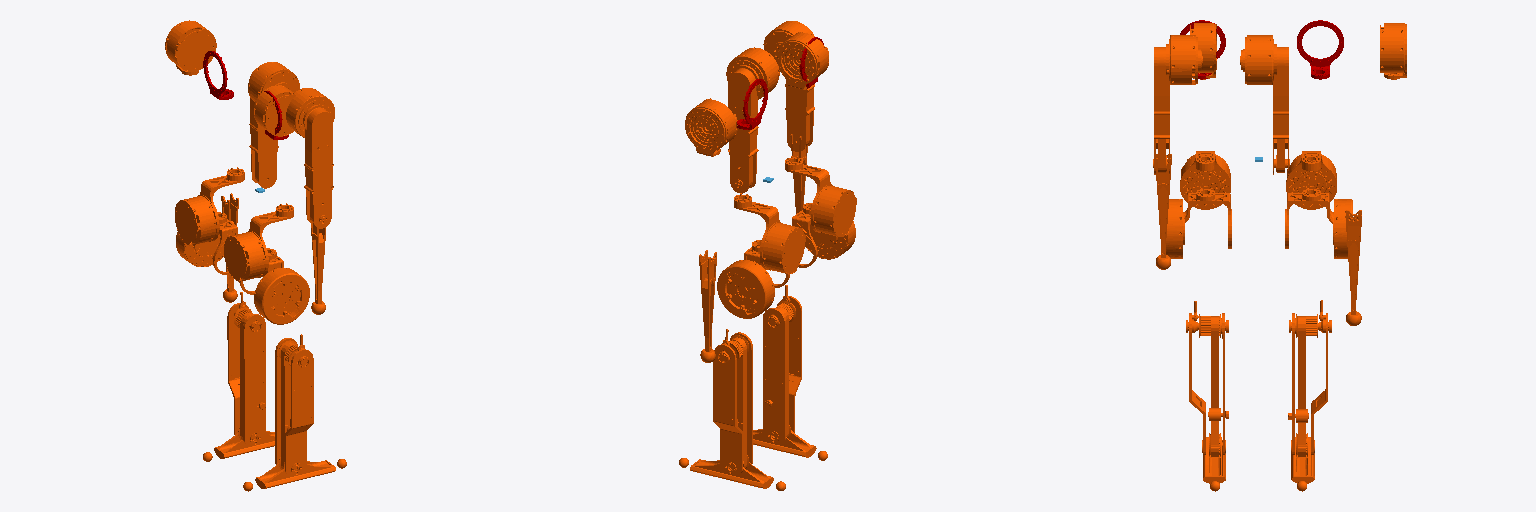
--- What the picture shows (computed from the rendered views, not written in the file) ---
The picture shows the robot from 3 angles, left to right: view 1: azimuth 30°, elevation 25°; view 2: azimuth 150°, elevation 25°; view 3: azimuth 270°, elevation 25°; orthographic projection.
Robot: robot — 22 links, 21 joints (16 revolute, 5 fixed); root link base; default pose: all joints at 0.
Links seen in each view (by area): view 1: L_LShank, R_LShank, R_LUpperArm, R_LHipRx, L_LUpperArm, L_LForeArm, R_LHipRz, L_LHipRz, R_LForeArm, L_LHipRx, R_Foot, L_Foot (+1 smaller); view 2: R_LShank, L_LShank, L_LUpperArm, L_LForeArm, L_LHipRx, L_LHipRz, R_LHipRz, R_LForeArm, R_LUpperArm, R_LHipRx, L_Foot, R_Foot (+1 smaller); view 3: L_LUpperArm, R_LUpperArm, L_LShank, L_LForeArm, R_LShank, R_LForeArm, R_LHipRz, L_LHipRz, R_LHipRx, L_LHipRx, L_LShoulderRx, L_Foot (+1 smaller).
Link boxes in pixels (x1,y1,x2,y2): L_LShank: [227, 292, 265, 444]; R_LShank: [275, 334, 313, 474]; R_LUpperArm: [286, 88, 334, 228]; R_LHipRx: [239, 248, 309, 324]; L_LUpperArm: [248, 62, 299, 188]; L_LForeArm: [165, 20, 238, 302]; R_LHipRz: [224, 203, 293, 281]; L_LHipRz: [175, 167, 244, 245]; R_LForeArm: [254, 85, 325, 314]; L_LHipRx: [176, 212, 237, 274]; R_Foot: [255, 457, 335, 488]; L_Foot: [214, 428, 274, 458]; R_LShank: [763, 285, 801, 442]; L_LShank: [713, 329, 752, 473]; L_LUpperArm: [726, 47, 779, 193]; L_LForeArm: [685, 98, 737, 362]; L_LHipRx: [717, 240, 789, 318]; L_LHipRz: [734, 193, 805, 273]; R_LHipRz: [785, 156, 856, 236]; R_LForeArm: [776, 32, 828, 213]; R_LUpperArm: [763, 21, 814, 151]; R_LHipRx: [792, 203, 855, 267]; L_Foot: [690, 455, 773, 488]; R_Foot: [753, 425, 816, 457]; L_LUpperArm: [1240, 35, 1289, 174]; R_LUpperArm: [1153, 35, 1202, 174]; L_LShank: [1288, 300, 1331, 456]; L_LForeArm: [1345, 23, 1406, 325]; R_LShank: [1186, 301, 1228, 456]; R_LForeArm: [1156, 23, 1216, 269]; R_LHipRz: [1180, 151, 1230, 209]; L_LHipRz: [1286, 151, 1336, 209]; R_LHipRx: [1166, 189, 1231, 258]; L_LHipRx: [1285, 189, 1352, 258]; L_LShoulderRx: [1297, 20, 1343, 79]; L_Foot: [1291, 433, 1314, 483].
Size in the robot's own frame: 0.27 by 0.4786 by 0.8947 metres.
Meshes: 17 distinct files referenced, 16 mesh visuals loaded (14 OBJ); not drawn: 3 (reference not matched to a file when rendering).

URDF robot description (robot):
<?xml version="1.0" ?>
<!-- =================================================================================== -->
<!-- |    This document was autogenerated by xacro from robot.xacro                    | -->
<!-- |    EDITING THIS FILE BY HAND IS NOT RECOMMENDED                                 | -->
<!-- =================================================================================== -->
<robot name="robot">
  <material name="black">
    <color rgba="0.0 0.0 0.0 1.0"/>
  </material>
  <material name="blue">
    <color rgba="0.0 0.0 0.8 1.0"/>
  </material>
  <material name="green">
    <color rgba="0.0 0.8 0.0 1.0"/>
  </material>
  <material name="grey">
    <color rgba="0.2 0.2 0.2 1.0"/>
  </material>
  <material name="silver">
    <color rgba="0.9137254901960784 0.9137254901960784 0.8470588235294118 1.0"/>
  </material>
  <material name="orange">
    <color rgba="1.0 0.4235294117647059 0.0392156862745098 1.0"/>
  </material>
  <material name="brown">
    <color rgba="0.8705882352941177 0.8117647058823529 0.7647058823529411 1.0"/>
  </material>
  <material name="red">
    <color rgba="0.8 0.0 0.0 1.0"/>
  </material>
  <material name="white">
    <color rgba="1.0 1.0 1.0 1.0"/>
  </material>
  <!-- ros_control plugin -->
  <gazebo>
    <plugin filename="liblegged_hw_sim.so" name="gazebo_ros_control">
      <robotNamespace>/</robotNamespace>
      <robotParam>legged_robot_description</robotParam>
      <robotSimType>legged_gazebo/LeggedHWSim</robotSimType>
    </plugin>
  </gazebo>
  <gazebo>
    <plugin filename="libgazebo_ros_p3d.so" name="p3d_base_controller">
      <alwaysOn>true</alwaysOn>
      <updateRate>1000.0</updateRate>
      <bodyName>base</bodyName>
      <topicName>ground_truth/state</topicName>
      <gaussianNoise>0</gaussianNoise>
      <frameName>world</frameName>
      <xyzOffsets>0 0 0</xyzOffsets>
      <rpyOffsets>0 0 0</rpyOffsets>
    </plugin>
  </gazebo>
  <link name="base">
    <visual>
      <origin rpy="0 0 0" xyz="0 0 0"/>
      <geometry>
        <mesh filename="package://legged_unitree_description/meshes/a1/Body.obj" scale="1 1 1"/>
      </geometry>
    </visual>
    <collision>
      <origin rpy="0 0 0" xyz="0 0 0.04"/>
      <geometry>
        <box size="0.194 0.267 0.178"/>
      </geometry>
    </collision>
    <inertial>
      <origin rpy="0 0 0" xyz="0.0 0.0 0.15"/>
      <mass value="6.5"/>
      <inertia ixx="0.3006167" ixy="-0.0" ixz="-0.0" iyy="0.23837" iyz="-0.0" izz="0.09690467"/>
    </inertial>
  </link>
  <!-- Imu is fixed to the base link -->
  <joint name="unitree_imu_joint" type="fixed">
    <origin rpy="0. 0. 0." xyz="0. 0. 0."/>
    <parent link="base"/>
    <child link="unitree_imu"/>
  </joint>
  <!-- Imu link -->
  <link name="unitree_imu">
    <inertial>
      <mass value="0.01"/>
      <origin rpy="0 0 0" xyz="0 0 0"/>
      <inertia ixx="0.000001" ixy="0" ixz="0" iyy="0.000001" iyz="0" izz="0.000001"/>
    </inertial>
    <visual>
      <origin rpy="0 0 0" xyz="0 0 0"/>
      <geometry>
        <box size="0.015 0.015 0.004"/>
      </geometry>
    </visual>
    <material name="orange">
      <color rgba="255 108 10 255"/>
    </material>
  </link>
  <gazebo reference="unitree_imu">
    <material>Gazebo/Orange</material>
  </gazebo>
  <gazebo reference="unitree_imu_joint">
    <disableFixedJointLumping>true</disableFixedJointLumping>
  </gazebo>
  <joint name="L_JHipRz" type="revolute">
    <origin rpy="0 0 0" xyz="0 0.1 0"/>
    <parent link="base"/>
    <child link="L_LHipRz"/>
    <axis xyz="0 0 1"/>
    <dynamics damping="100" friction="100"/>
    <limit effort="33.5" lower="-3" upper="3" velocity="21"/>
  </joint>
  <link name="L_LHipRz">
    <visual>
      <origin rpy="0 0 0.0" xyz="0 0 0"/>
      <geometry>
        <mesh filename="package://legged_unitree_description/meshes/a1/L_HipRz.obj" scale="1 1 1"/>
      </geometry>
      <material name="orange"/>
    </visual>
    <inertial>
      <origin rpy="0 0 0" xyz="0.0 0.0 -0.01"/>
      <mass value="0.30"/>
      <inertia ixx="0.003735" ixy="0.0" ixz="0.0" iyy="0.01391" iyz="0.0" izz="0.01355"/>
    </inertial>
    <collision>
      <origin rpy="0 1.57 0" xyz="0 0 -0.1"/>
      <origin rpy="0 1.57 0" xyz="0 0 -0.1"/>
      <geometry>
        <cylinder length="0.05" radius="0.02"/>
      </geometry>
    </collision>
  </link>
  <joint name="L_JHipRx" type="revolute">
    <origin rpy="0 0 0" xyz="-0.041 0.0 -0.0885"/>
    <parent link="L_LHipRz"/>
    <child link="L_LHipRx"/>
    <axis xyz="1 0 0"/>
    <dynamics damping="100" friction="100"/>
    <limit effort="33.5" lower="-3" upper="3" velocity="21"/>
  </joint>
  <link name="L_LHipRx">
    <collision>
      <origin rpy="0 1.57 0" xyz="-0.07 -0.0 -0.0"/>
      <origin rpy="0 1.57 0" xyz="-0.07 0.0 -0.0"/>
      <geometry>
        <cylinder length="0.05" radius="0.04"/>
      </geometry>
    </collision>
    <visual>
      <origin rpy="0 0 0" xyz="0. 0.00 0.0"/>
      <origin rpy="0 0 0.0" xyz="0 0 0.0"/>
      <geometry>
        <mesh filename="package://legged_unitree_description/meshes/a1/L_HipRx.obj" scale="1 1 1"/>
      </geometry>
      <material name="orange"/>
    </visual>
    <inertial>
      <origin rpy="0 0 0" xyz="0.0 0.0 -0.01"/>
      <mass value="0.30"/>
      <inertia ixx="0.003735" ixy="0.0" ixz="0.0" iyy="0.01391" iyz="0.0" izz="0.01355"/>
    </inertial>
  </link>
  <joint name="L_JThigh" type="revolute">
    <origin rpy="0 0 0" xyz="0.065 0.0 0.0"/>
    <parent link="L_LHipRx"/>
    <child link="L_LThigh"/>
    <axis xyz="0 1 0"/>
    <dynamics damping="100" friction="100"/>
    <limit effort="33.5" lower="-3" upper="3" velocity="21"/>
  </joint>
  <link name="L_LThigh">
    <visual>
      <origin rpy="1.57 1.57 -0" xyz="0. 0.0 0.0"/>
      <origin rpy="1.57 1.57 0.0" xyz="0 0.0 0.0"/>
      <geometry>
        <mesh filename="package://legged_unitree_description/meshes/a1/L_Thigh.obj" scale="1 1 1"/>
      </geometry>
      <material name="orange"/>
    </visual>
    <collision>
      <origin rpy="0 0 0" xyz="-0.0 -0.0 -0.17"/>
      <origin rpy="0 0 0" xyz="-0.0 0.0 -0.17"/>
      <geometry>
        <cylinder length="0.23" radius="0.04"/>
      </geometry>
    </collision>
    <inertial>
      <origin rpy="0 0 0" xyz="0.0 0.0 -0.01"/>
      <mass value="1.0"/>
      <inertia ixx="0.003735" ixy="0.0" ixz="0.0" iyy="0.01391" iyz="0.0" izz="0.01355"/>
    </inertial>
  </link>
  <joint name="L_JKnee" type="revolute">
    <origin rpy="0 0 0" xyz="0.0 -0.017875 -0.247"/>
    <parent link="L_LThigh"/>
    <child link="L_LShank"/>
    <axis xyz="0 1 0"/>
    <dynamics damping="100" friction="100"/>
    <limit effort="33.5" lower="-3" upper="3" velocity="21"/>
  </joint>
  <link name="L_LShank">
    <visual>
      <origin rpy="1.57 1.57 0" xyz="0 -0.0 0"/>
      <geometry>
        <mesh filename="package://legged_unitree_description/meshes/a1/L_LowerLeg3_drawing.obj" scale="1 1 1"/>
      </geometry>
      <material name="orange"/>
    </visual>
    <collision>
      <origin rpy="0 0 0" xyz="-0.0 -0.0 -0.15"/>
      <origin rpy="0 0 0" xyz="-0.0 0.0 -0.15"/>
      <geometry>
        <cylinder length="0.15" radius="0.04"/>
      </geometry>
    </collision>
    <inertial>
      <origin rpy="0 0 0" xyz="-0.03416 -0.00075 -0.01"/>
      <mass value="0.70"/>
      <inertia ixx="0.003735" ixy="0.0" ixz="0.0" iyy="0.01391" iyz="0.0" izz="0.01355"/>
    </inertial>
  </link>
  <joint name="L_JAnkle" type="revolute">
    <origin rpy="0 0 0" xyz="0.0 0.0 -0.247"/>
    <parent link="L_LShank"/>
    <child link="L_Foot"/>
    <axis xyz="0 1 0"/>
    <dynamics damping="100" friction="100"/>
    <limit effort="33.5" lower="-3" upper="3" velocity="3"/>
  </joint>
  <link name="L_Foot">
    <visual>
      <origin rpy="1.57 1.57 0" xyz="0 0 0"/>
      <geometry>
        <mesh filename="package://legged_unitree_description/meshes/a1/L_foot_drawing.obj" scale="1 1 1"/>
      </geometry>
      <material name="orange"/>
    </visual>
    <!--  两个点 -->
    <!---->
    <!--            <collision>-->
    <!--                <geometry>-->
    <!--                    <sphere radius="0.02"/>-->
    <!--                </geometry>-->
    <!--                <origin xyz="-0.1 0.0 -0.03" rpy="0 0 0"/>-->
    <!--            </collision>-->
    <!--            <collision>-->
    <!--                <geometry>-->
    <!--                    <sphere radius="0.02"/>-->
    <!--                </geometry>-->
    <!--                <origin xyz="0.12 0.0 -0.03" rpy="0 0 0"/>-->
    <!--            </collision>-->
    <!--  条形 -->
    <!--            <collision>-->
    <!--                <origin rpy="0 0 0" xyz="0 0 -0.033"/>-->
    <!--                <geometry>-->
    <!--                    <box size="${foot_width} ${foot_length} ${foot_height}"/>-->
    <!--                </geometry>-->
    <!--            </collision>-->
    <!-- <collision>
            <xacro:if value="${(mirror == True)}">
                <origin rpy="0 0 0" xyz="${foot_width} ${Shank_y_offset} ${Shank_z_offset}"/>
            </xacro:if>
            <xacro:unless value="${(mirror == False)}">
                <origin rpy="0 0 0" xyz="${Shank_x_offset} ${-Shank_y_offset} ${Shank_z_offset}"/>
            </xacro:unless>
                <geometry>
                    <cylinder length="${Shank_length}" radius="${Shank_radius}"/>
                </geometry>
            </collision> -->
    <inertial>
      <origin rpy="0 0 0" xyz="0.0 0.0 -0.01"/>
      <mass value="0.30"/>
      <inertia ixx="0.003735" ixy="0.0" ixz="0.0" iyy="0.01391" iyz="0.0" izz="0.01355"/>
    </inertial>
  </link>
  <joint name="LF_Jfoot_fixed" type="fixed">
    <origin rpy="0 0 0" xyz="0.12 0.0 -0.03"/>
    <parent link="L_Foot"/>
    <child link="LF_Lfoot_fixed"/>
  </joint>
  <link name="LF_Lfoot_fixed">
    <visual>
      <origin rpy="0 0 0" xyz="0 0 0"/>
      <geometry>
        <sphere radius="0.01"/>
      </geometry>
      <material name="orange"/>
    </visual>
    <collision>
      <origin rpy="0 0 0" xyz="0 0 0"/>
      <geometry>
        <sphere radius="0.02"/>
      </geometry>
    </collision>
  </link>
  <joint name="LH_Jfoot_fixed" type="fixed">
    <origin rpy="0 0 0" xyz="-0.1 0.0 -0.03"/>
    <parent link="L_Foot"/>
    <child link="LH_Lfoot_fixed"/>
  </joint>
  <link name="LH_Lfoot_fixed">
    <visual>
      <origin rpy="0 0 0" xyz="0 0 0"/>
      <geometry>
        <sphere radius="0.01"/>
      </geometry>
      <material name="orange"/>
    </visual>
    <collision>
      <origin rpy="0 0 0" xyz="0 0 0"/>
      <geometry>
        <sphere radius="0.02"/>
      </geometry>
    </collision>
  </link>
  <gazebo reference="LF_Lfoot_fixed">
    <disableFixedJointLumping>true</disableFixedJointLumping>
  </gazebo>
  <gazebo reference="LH_Lfoot_fixed">
    <disableFixedJointLumping>true</disableFixedJointLumping>
  </gazebo>
  <gazebo reference="L_LHipRz">
    <mu1>0.2</mu1>
    <mu2>0.2</mu2>
    <material>Gazebo/DarkGrey</material>
    <kp value="1000000.0"/>
    <kd value="100.0"/>
  </gazebo>
  <gazebo reference="L_LHipRx">
    <mu1>0.2</mu1>
    <mu2>0.2</mu2>
    <material>Gazebo/DarkGrey</material>
    <kp value="1000000.0"/>
    <kd value="100.0"/>
  </gazebo>
  <gazebo reference="L_LThigh">
    <mu1>0.2</mu1>
    <mu2>0.2</mu2>
    <material>Gazebo/DarkGrey</material>
    <kp value="1000000.0"/>
    <kd value="100.0"/>
  </gazebo>
  <gazebo reference="L_LShank">
    <mu1>0.2</mu1>
    <mu2>0.2</mu2>
    <material>Gazebo/DarkGrey</material>
    <kp value="1000000.0"/>
    <kd value="100.0"/>
  </gazebo>
  <gazebo reference="L_Foot">
    <mu1>0.6</mu1>
    <mu2>0.6</mu2>
    <self_collide>1</self_collide>
    <material>Gazebo/DarkGrey</material>
    <kp value="1000000.0"/>
    <kd value="100.0"/>
  </gazebo>
  <transmission name="L_JHipRz_tran">
    <type>transmission_interface/SimpleTransmission</type>
    <joint name="L_JHipRz">
      <hardwareInterface>hardware_interface/EffortJointInterface</hardwareInterface>
    </joint>
    <actuator name="L_JHipRz_motor">
      <hardwareInterface>hardware_interface/EffortJointInterface</hardwareInterface>
      <mechanicalReduction>1</mechanicalReduction>
    </actuator>
  </transmission>
  <transmission name="L_JHipRx_tran">
    <type>transmission_interface/SimpleTransmission</type>
    <joint name="L_JHipRx">
      <hardwareInterface>hardware_interface/EffortJointInterface</hardwareInterface>
    </joint>
    <actuator name="L_JHipRx_motor">
      <hardwareInterface>hardware_interface/EffortJointInterface</hardwareInterface>
      <mechanicalReduction>1</mechanicalReduction>
    </actuator>
  </transmission>
  <transmission name="L_JThigh_tran">
    <type>transmission_interface/SimpleTransmission</type>
    <joint name="L_JThigh">
      <hardwareInterface>hardware_interface/EffortJointInterface</hardwareInterface>
    </joint>
    <actuator name="L_JThigh_motor">
      <hardwareInterface>hardware_interface/EffortJointInterface</hardwareInterface>
      <mechanicalReduction>1</mechanicalReduction>
    </actuator>
  </transmission>
  <transmission name="L_JKnee_tran">
    <type>transmission_interface/SimpleTransmission</type>
    <joint name="L_JKnee">
      <hardwareInterface>hardware_interface/EffortJointInterface</hardwareInterface>
    </joint>
    <actuator name="L_JKnee_motor">
      <hardwareInterface>hardware_interface/EffortJointInterface</hardwareInterface>
      <mechanicalReduction>1</mechanicalReduction>
    </actuator>
  </transmission>
  <transmission name="L_JAnkle_tran">
    <type>transmission_interface/SimpleTransmission</type>
    <joint name="L_JAnkle">
      <hardwareInterface>hardware_interface/EffortJointInterface</hardwareInterface>
    </joint>
    <actuator name="L_JAnkle_motor">
      <hardwareInterface>hardware_interface/EffortJointInterface</hardwareInterface>
      <mechanicalReduction>1</mechanicalReduction>
    </actuator>
  </transmission>
  <joint name="R_JHipRz" type="revolute">
    <origin rpy="0 0 0" xyz="0 -0.1 0"/>
    <parent link="base"/>
    <child link="R_LHipRz"/>
    <axis xyz="0 0 1"/>
    <dynamics damping="100" friction="100"/>
    <limit effort="33.5" lower="-3" upper="3" velocity="21"/>
  </joint>
  <link name="R_LHipRz">
    <visual>
      <origin rpy="0 0 0.0" xyz="0 0 0"/>
      <geometry>
        <mesh filename="package://legged_unitree_description/meshes/a1/R_HipRz.obj" scale="1 1 1"/>
      </geometry>
      <material name="orange"/>
    </visual>
    <inertial>
      <origin rpy="0 0 0" xyz="0.0 0.0 -0.01"/>
      <mass value="0.30"/>
      <inertia ixx="0.003735" ixy="0.0" ixz="0.0" iyy="0.01391" iyz="0.0" izz="0.01355"/>
    </inertial>
    <collision>
      <origin rpy="0 1.57 0" xyz="0 0 -0.1"/>
      <geometry>
        <cylinder length="0.05" radius="0.02"/>
      </geometry>
    </collision>
  </link>
  <joint name="R_JHipRx" type="revolute">
    <origin rpy="0 0 0" xyz="-0.041 0.0 -0.0885"/>
    <parent link="R_LHipRz"/>
    <child link="R_LHipRx"/>
    <axis xyz="1 0 0"/>
    <dynamics damping="100" friction="100"/>
    <limit effort="33.5" lower="-3" upper="3" velocity="21"/>
  </joint>
  <link name="R_LHipRx">
    <collision>
      <origin rpy="0 1.57 0" xyz="-0.07 0.0 -0.0"/>
      <geometry>
        <cylinder length="0.05" radius="0.04"/>
      </geometry>
    </collision>
    <visual>
      <origin rpy="0 0 0.0" xyz="0 0 0.0"/>
      <geometry>
        <mesh filename="package://legged_unitree_description/meshes/a1/R_HipRx.obj" scale="1 1 1"/>
      </geometry>
      <material name="orange"/>
    </visual>
    <inertial>
      <origin rpy="0 0 0" xyz="0.0 0.0 -0.01"/>
      <mass value="0.30"/>
      <inertia ixx="0.003735" ixy="0.0" ixz="0.0" iyy="0.01391" iyz="0.0" izz="0.01355"/>
    </inertial>
  </link>
  <joint name="R_JThigh" type="revolute">
    <origin rpy="0 0 0" xyz="0.065 0.0 0.0"/>
    <parent link="R_LHipRx"/>
    <child link="R_LThigh"/>
    <axis xyz="0 1 0"/>
    <dynamics damping="100" friction="100"/>
    <limit effort="33.5" lower="-3" upper="3" velocity="21"/>
  </joint>
  <link name="R_LThigh">
    <visual>
      <origin rpy="1.57 1.57 0.0" xyz="0 0.0 0.0"/>
      <geometry>
        <mesh filename="package://legged_unitree_description/meshes/a1/R_Thigh.obj" scale="1 1 1"/>
      </geometry>
      <material name="orange"/>
    </visual>
    <collision>
      <origin rpy="0 0 0" xyz="-0.0 0.0 -0.17"/>
      <geometry>
        <cylinder length="0.23" radius="0.04"/>
      </geometry>
    </collision>
    <inertial>
      <origin rpy="0 0 0" xyz="0.0 0.0 -0.01"/>
      <mass value="1.0"/>
      <inertia ixx="0.003735" ixy="0.0" ixz="0.0" iyy="0.01391" iyz="0.0" izz="0.01355"/>
    </inertial>
  </link>
  <joint name="R_JKnee" type="revolute">
    <origin rpy="0 0 0" xyz="0.0 0.017875 -0.247"/>
    <parent link="R_LThigh"/>
    <child link="R_LShank"/>
    <axis xyz="0 1 0"/>
    <dynamics damping="100" friction="100"/>
    <limit effort="33.5" lower="-3" upper="3" velocity="21"/>
  </joint>
  <link name="R_LShank">
    <visual>
      <origin rpy="1.57 1.57 0" xyz="0 -0.0 0"/>
      <geometry>
        <mesh filename="package://legged_unitree_description/meshes/a1/R_LowerLeg3_drawing.obj" scale="1 1 1"/>
      </geometry>
      <material name="orange"/>
    </visual>
    <collision>
      <origin rpy="0 0 0" xyz="-0.0 0.0 -0.15"/>
      <geometry>
        <cylinder length="0.15" radius="0.04"/>
      </geometry>
    </collision>
    <inertial>
      <origin rpy="0 0 0" xyz="-0.03416 -0.00075 -0.01"/>
      <mass value="0.70"/>
      <inertia ixx="0.003735" ixy="0.0" ixz="0.0" iyy="0.01391" iyz="0.0" izz="0.01355"/>
    </inertial>
  </link>
  <joint name="R_JAnkle" type="revolute">
    <origin rpy="0 0 0" xyz="0.0 0.0 -0.247"/>
    <parent link="R_LShank"/>
    <child link="R_Foot"/>
    <axis xyz="0 1 0"/>
    <dynamics damping="100" friction="100"/>
    <limit effort="33.5" lower="-3" upper="3" velocity="3"/>
  </joint>
  <link name="R_Foot">
    <visual>
      <origin rpy="1.57 1.57 0" xyz="0 0 0"/>
      <geometry>
        <mesh filename="package://legged_unitree_description/meshes/a1/R_foot_drawing.obj" scale="1 1 1"/>
      </geometry>
      <material name="orange"/>
    </visual>
    <!--  两个点 -->
    <!---->
    <!--            <collision>-->
    <!--                <geometry>-->
    <!--                    <sphere radius="0.02"/>-->
    <!--                </geometry>-->
    <!--                <origin xyz="-0.1 0.0 -0.03" rpy="0 0 0"/>-->
    <!--            </collision>-->
    <!--            <collision>-->
    <!--                <geometry>-->
    <!--                    <sphere radius="0.02"/>-->
    <!--                </geometry>-->
    <!--                <origin xyz="0.12 0.0 -0.03" rpy="0 0 0"/>-->
    <!--            </collision>-->
    <!--  条形 -->
    <!--            <collision>-->
    <!--                <origin rpy="0 0 0" xyz="0 0 -0.033"/>-->
    <!--                <geometry>-->
    <!--                    <box size="${foot_width} ${foot_length} ${foot_height}"/>-->
    <!--                </geometry>-->
    <!--            </collision>-->
    <!-- <collision>
            <xacro:if value="${(mirror == True)}">
                <origin rpy="0 0 0" xyz="${foot_width} ${Shank_y_offset} ${Shank_z_offset}"/>
            </xacro:if>
            <xacro:unless value="${(mirror == False)}">
                <origin rpy="0 0 0" xyz="${Shank_x_offset} ${-Shank_y_offset} ${Shank_z_offset}"/>
            </xacro:unless>
                <geometry>
                    <cylinder length="${Shank_length}" radius="${Shank_radius}"/>
                </geometry>
            </collision> -->
    <inertial>
      <origin rpy="0 0 0" xyz="0.0 0.0 -0.01"/>
      <mass value="0.30"/>
      <inertia ixx="0.003735" ixy="0.0" ixz="0.0" iyy="0.01391" iyz="0.0" izz="0.01355"/>
    </inertial>
  </link>
  <joint name="RF_Jfoot_fixed" type="fixed">
    <origin rpy="0 0 0" xyz="0.12 0.0 -0.03"/>
    <parent link="R_Foot"/>
    <child link="RF_Lfoot_fixed"/>
  </joint>
  <link name="RF_Lfoot_fixed">
    <visual>
      <origin rpy="0 0 0" xyz="0 0 0"/>
      <geometry>
        <sphere radius="0.01"/>
      </geometry>
      <material name="orange"/>
    </visual>
    <collision>
      <origin rpy="0 0 0" xyz="0 0 0"/>
      <geometry>
        <sphere radius="0.02"/>
      </geometry>
    </collision>
  </link>
  <joint name="RH_Jfoot_fixed" type="fixed">
    <origin rpy="0 0 0" xyz="-0.1 0.0 -0.03"/>
    <parent link="R_Foot"/>
    <child link="RH_Lfoot_fixed"/>
  </joint>
  <link name="RH_Lfoot_fixed">
    <visual>
      <origin rpy="0 0 0" xyz="0 0 0"/>
      <geometry>
        <sphere radius="0.01"/>
      </geometry>
      <material name="orange"/>
    </visual>
    <collision>
      <origin rpy="0 0 0" xyz="0 0 0"/>
      <geometry>
        <sphere radius="0.02"/>
      </geometry>
    </collision>
  </link>
  <gazebo reference="RF_Lfoot_fixed">
    <disableFixedJointLumping>true</disableFixedJointLumping>
  </gazebo>
  <gazebo reference="RH_Lfoot_fixed">
    <disableFixedJointLumping>true</disableFixedJointLumping>
  </gazebo>
  <gazebo reference="R_LHipRz">
    <mu1>0.2</mu1>
    <mu2>0.2</mu2>
    <material>Gazebo/DarkGrey</material>
    <kp value="1000000.0"/>
    <kd value="100.0"/>
  </gazebo>
  <gazebo reference="R_LHipRx">
    <mu1>0.2</mu1>
    <mu2>0.2</mu2>
    <material>Gazebo/DarkGrey</material>
    <kp value="1000000.0"/>
    <kd value="100.0"/>
  </gazebo>
  <gazebo reference="R_LThigh">
    <mu1>0.2</mu1>
    <mu2>0.2</mu2>
    <material>Gazebo/DarkGrey</material>
    <kp value="1000000.0"/>
    <kd value="100.0"/>
  </gazebo>
  <gazebo reference="R_LShank">
    <mu1>0.2</mu1>
    <mu2>0.2</mu2>
    <material>Gazebo/DarkGrey</material>
    <kp value="1000000.0"/>
    <kd value="100.0"/>
  </gazebo>
  <gazebo reference="R_Foot">
    <mu1>0.6</mu1>
    <mu2>0.6</mu2>
    <self_collide>1</self_collide>
    <material>Gazebo/DarkGrey</material>
    <kp value="1000000.0"/>
    <kd value="100.0"/>
  </gazebo>
  <transmission name="R_JHipRz_tran">
    <type>transmission_interface/SimpleTransmission</type>
    <joint name="R_JHipRz">
      <hardwareInterface>hardware_interface/EffortJointInterface</hardwareInterface>
    </joint>
    <actuator name="R_JHipRz_motor">
      <hardwareInterface>hardware_interface/EffortJointInterface</hardwareInterface>
      <mechanicalReduction>1</mechanicalReduction>
    </actuator>
  </transmission>
  <transmission name="R_JHipRx_tran">
    <type>transmission_interface/SimpleTransmission</type>
    <joint name="R_JHipRx">
      <hardwareInterface>hardware_interface/EffortJointInterface</hardwareInterface>
    </joint>
    <actuator name="R_JHipRx_motor">
      <hardwareInterface>hardware_interface/EffortJointInterface</hardwareInterface>
      <mechanicalReduction>1</mechanicalReduction>
    </actuator>
  </transmission>
  <transmission name="R_JThigh_tran">
    <type>transmission_interface/SimpleTransmission</type>
    <joint name="R_JThigh">
      <hardwareInterface>hardware_interface/EffortJointInterface</hardwareInterface>
    </joint>
    <actuator name="R_JThigh_motor">
      <hardwareInterface>hardware_interface/EffortJointInterface</hardwareInterface>
      <mechanicalReduction>1</mechanicalReduction>
    </actuator>
  </transmission>
  <transmission name="R_JKnee_tran">
    <type>transmission_interface/SimpleTransmission</type>
    <joint name="R_JKnee">
      <hardwareInterface>hardware_interface/EffortJointInterface</hardwareInterface>
    </joint>
    <actuator name="R_JKnee_motor">
      <hardwareInterface>hardware_interface/EffortJointInterface</hardwareInterface>
      <mechanicalReduction>1</mechanicalReduction>
    </actuator>
  </transmission>
  <transmission name="R_JAnkle_tran">
    <type>transmission_interface/SimpleTransmission</type>
    <joint name="R_JAnkle">
      <hardwareInterface>hardware_interface/EffortJointInterface</hardwareInterface>
    </joint>
    <actuator name="R_JAnkle_motor">
      <hardwareInterface>hardware_interface/EffortJointInterface</hardwareInterface>
      <mechanicalReduction>1</mechanicalReduction>
    </actuator>
  </transmission>
  <joint name="L_JShoulderRx" type="revolute">
    <origin rpy="0 0 0" xyz="-0.0215 0.1115 0.202"/>
    <parent link="base"/>
    <child link="L_LShoulderRx"/>
    <axis xyz="1 0 0"/>
    <dynamics damping="100" friction="100"/>
    <limit effort="33.5" lower="-3" upper="3" velocity="21"/>
  </joint>
  <link name="L_LShoulderRx">
    <visual>
      <origin rpy="3.14 0 -1.570" xyz="0.006 -0.005 -0.034"/>
      <origin rpy="3.14 0 -1.570" xyz="0.006 0.005 -0.034"/>
      <geometry>
        <mesh filename="package://legged_unitree_description/meshes/a1/L_ShoulderRx.obj" scale="1 1 1"/>
      </geometry>
      <material name="red"/>
    </visual>
    <collision>
      <origin rpy="0 1.57 0" xyz="-0.05 0.0 -0.0"/>
      <origin rpy="0 1.57 0" xyz="-0.05 -0.0 -0.0"/>
      <geometry>
        <cylinder length="0.02" radius="0.05"/>
      </geometry>
    </collision>
    <inertial>
      <origin rpy="0 0 0" xyz="0.01 0.0 0.0"/>
      <mass value="0.30"/>
      <inertia ixx="0.003735" ixy="0.0" ixz="0.0" iyy="0.01391" iyz="0.0" izz="0.01355"/>
    </inertial>
  </link>
  <joint name="L_JUpperArm" type="revolute">
    <origin rpy="0 0 0" xyz="0.0545 0.0 0.0"/>
    <parent link="L_LShoulderRx"/>
    <child link="L_LUpperArm"/>
    <axis xyz="0 1 0"/>
    <dynamics damping="100" friction="100"/>
    <limit effort="33.5" lower="-3" upper="3" velocity="21"/>
  </joint>
  <link name="L_LUpperArm">
    <visual>
      <origin rpy="1.57 1.57 0" xyz="0. 0.07 0.02"/>
      <origin rpy="1.57 1.57 0.0" xyz="0 -0.07 0.02"/>
      <geometry>
        <mesh filename="package://legged_unitree_description/meshes/a1/L_UpperArm.obj" scale="1 1 1"/>
      </geometry>
      <material name="orange"/>
    </visual>
    <collision>
      <origin rpy="0 0 0" xyz="0.01 0.068 -0.05"/>
      <origin rpy="0 0 0" xyz="0.01 -0.068 -0.05"/>
      <geometry>
        <cylinder length="0.23" radius="0.025"/>
      </geometry>
    </collision>
    <inertial>
      <origin rpy="0 0 0" xyz="0.0 0.0 -0.09"/>
      <mass value="0.37"/>
      <inertia ixx="0.003735" ixy="0.0" ixz="0.0" iyy="0.01391" iyz="0.0" izz="0.01355"/>
    </inertial>
  </link>
  <joint name="L_JForeArm" type="revolute">
    <origin rpy="0 0 0" xyz="0.0 0.068 -0.195"/>
    <parent link="L_LUpperArm"/>
    <child link="L_LForeArm"/>
    <axis xyz="0 1 0"/>
    <dynamics damping="100" friction="100"/>
    <limit effort="33.5" lower="-3" upper="3" velocity="21"/>
  </joint>
  <link name="L_LForeArm">
    <visual>
      <origin rpy="0 0 0" xyz="-0.05 -0.075 0.16"/>
      <origin rpy="0 0 3.14" xyz="-0.05 0.075 0.16"/>
      <geometry>
        <mesh filename="package://legged_unitree_description/meshes/a1/R_ShoulderRx.obj" scale="1 1 1"/>
      </geometry>
      <material name="orange"/>
    </visual>
    <visual>
      <origin rpy="0 1.570 0.0" xyz="-0.0 -0.0 0.0"/>
      <origin rpy="0 1.570 0.0" xyz="-0.0 0.0 -0.102"/>
      <geometry>
        <mesh filename="package://legged_unitree_description/meshes/a1/L_ForeArm2.obj" scale="1 1 1"/>
      </geometry>
      <material name="orange"/>
    </visual>
    <collision>
      <origin rpy="0 0 0" xyz="0.015 0.007 -0.1"/>
      <origin rpy="0 0 0" xyz="0.015 -0.007 -0.1"/>
      <geometry>
        <cylinder length="0.23" radius="0.025"/>
      </geometry>
    </collision>
    <inertial>
      <origin rpy="0 0 0" xyz="0.0 0.0 -0.04"/>
      <mass value="0.1"/>
      <inertia ixx="0.003735" ixy="0.0" ixz="0.0" iyy="0.01391" iyz="0.0" izz="0.01355"/>
    </inertial>
  </link>
  <gazebo reference="L_LShoulderRx">
    <mu1>0.2</mu1>
    <mu2>0.2</mu2>
    <material>Gazebo/DarkGrey</material>
    <kp value="1000000.0"/>
    <kd value="100.0"/>
  </gazebo>
  <gazebo reference="L_LUpperArm">
    <mu1>0.2</mu1>
    <mu2>0.2</mu2>
    <material>Gazebo/DarkGrey</material>
    <kp value="1000000.0"/>
    <kd value="100.0"/>
  </gazebo>
  <gazebo reference="L_LForeArm">
    <mu1>0.2</mu1>
    <mu2>0.2</mu2>
    <material>Gazebo/DarkGrey</material>
    <kp value="1000000.0"/>
    <kd value="100.0"/>
  </gazebo>
  <transmission name="L_JShoulderRx_tran">
    <type>transmission_interface/SimpleTransmission</type>
    <joint name="L_JShoulderRx">
      <hardwareInterface>hardware_interface/EffortJointInterface</hardwareInterface>
    </joint>
    <actuator name="L_JShoulderRx_motor">
      <hardwareInterface>hardware_interface/EffortJointInterface</hardwareInterface>
      <mechanicalReduction>1</mechanicalReduction>
    </actuator>
  </transmission>
  <transmission name="L_JUpperArm_tran">
    <type>transmission_interface/SimpleTransmission</type>
    <joint name="L_JUpperArm">
      <hardwareInterface>hardware_interface/EffortJointInterface</hardwareInterface>
    </joint>
    <actuator name="L_JUpperArm_motor">
      <hardwareInterface>hardware_interface/EffortJointInterface</hardwareInterface>
      <mechanicalReduction>1</mechanicalReduction>
    </actuator>
  </transmission>
  <transmission name="L_JForeArm_tran">
    <type>transmission_interface/SimpleTransmission</type>
    <joint name="L_JForeArm">
      <hardwareInterface>hardware_interface/EffortJointInterface</hardwareInterface>
    </joint>
    <actuator name="L_JForeArm_motor">
      <hardwareInterface>hardware_interface/EffortJointInterface</hardwareInterface>
      <mechanicalReduction>1</mechanicalReduction>
    </actuator>
  </transmission>
  <joint name="R_JShoulderRx" type="revolute">
    <origin rpy="0 0 0" xyz="-0.0215 -0.1115 0.202"/>
    <parent link="base"/>
    <child link="R_LShoulderRx"/>
    <axis xyz="1 0 0"/>
    <dynamics damping="100" friction="100"/>
    <limit effort="33.5" lower="-3" upper="3" velocity="21"/>
  </joint>
  <link name="R_LShoulderRx">
    <visual>
      <origin rpy="3.14 0 -1.570" xyz="0.006 0.005 -0.034"/>
      <geometry>
        <mesh filename="package://legged_unitree_description/meshes/a1/L_ShoulderRx.obj" scale="1 1 1"/>
      </geometry>
      <material name="red"/>
    </visual>
    <collision>
      <origin rpy="0 1.57 0" xyz="-0.05 -0.0 -0.0"/>
      <geometry>
        <cylinder length="0.02" radius="0.05"/>
      </geometry>
    </collision>
    <inertial>
      <origin rpy="0 0 0" xyz="0.01 0.0 0.0"/>
      <mass value="0.30"/>
      <inertia ixx="0.003735" ixy="0.0" ixz="0.0" iyy="0.01391" iyz="0.0" izz="0.01355"/>
    </inertial>
  </link>
  <joint name="R_JUpperArm" type="revolute">
    <origin rpy="0 0 0" xyz="0.0545 0.0 0.0"/>
    <parent link="R_LShoulderRx"/>
    <child link="R_LUpperArm"/>
    <axis xyz="0 1 0"/>
    <dynamics damping="100" friction="100"/>
    <limit effort="33.5" lower="-3" upper="3" velocity="21"/>
  </joint>
  <link name="R_LUpperArm">
    <visual>
      <origin rpy="1.57 1.57 0.0" xyz="0 -0.07 0.02"/>
      <geometry>
        <mesh filename="package://legged_unitree_description/meshes/a1/R_UpperArm.obj" scale="1 1 1"/>
      </geometry>
      <material name="orange"/>
    </visual>
    <collision>
      <origin rpy="0 0 0" xyz="0.01 -0.068 -0.05"/>
      <geometry>
        <cylinder length="0.23" radius="0.025"/>
      </geometry>
    </collision>
    <inertial>
      <origin rpy="0 0 0" xyz="0.0 0.0 -0.09"/>
      <mass value="0.37"/>
      <inertia ixx="0.003735" ixy="0.0" ixz="0.0" iyy="0.01391" iyz="0.0" izz="0.01355"/>
    </inertial>
  </link>
  <joint name="R_JForeArm" type="revolute">
    <origin rpy="0 0 0" xyz="0.0 -0.068 -0.195"/>
    <parent link="R_LUpperArm"/>
    <child link="R_LForeArm"/>
    <axis xyz="0 1 0"/>
    <dynamics damping="100" friction="100"/>
    <limit effort="33.5" lower="-3" upper="3" velocity="21"/>
  </joint>
  <link name="R_LForeArm">
    <visual>
      <origin rpy="0 0 3.14" xyz="-0.05 0.075 0.16"/>
      <geometry>
        <mesh filename="package://legged_unitree_description/meshes/a1/R_ShoulderRx.obj" scale="1 1 1"/>
      </geometry>
      <material name="orange"/>
    </visual>
    <visual>
      <origin rpy="0 1.570 0.0" xyz="-0.0 0.0 -0.102"/>
      <geometry>
        <mesh filename="package://legged_unitree_description/meshes/a1/R_ForeArm2.obj" scale="1 1 1"/>
      </geometry>
      <material name="orange"/>
    </visual>
    <collision>
      <origin rpy="0 0 0" xyz="0.015 -0.007 -0.1"/>
      <geometry>
        <cylinder length="0.23" radius="0.025"/>
      </geometry>
    </collision>
    <inertial>
      <origin rpy="0 0 0" xyz="0.0 0.0 -0.04"/>
      <mass value="0.1"/>
      <inertia ixx="0.003735" ixy="0.0" ixz="0.0" iyy="0.01391" iyz="0.0" izz="0.01355"/>
    </inertial>
  </link>
  <gazebo reference="R_LShoulderRx">
    <mu1>0.2</mu1>
    <mu2>0.2</mu2>
    <material>Gazebo/DarkGrey</material>
    <kp value="1000000.0"/>
    <kd value="100.0"/>
  </gazebo>
  <gazebo reference="R_LUpperArm">
    <mu1>0.2</mu1>
    <mu2>0.2</mu2>
    <material>Gazebo/DarkGrey</material>
    <kp value="1000000.0"/>
    <kd value="100.0"/>
  </gazebo>
  <gazebo reference="R_LForeArm">
    <mu1>0.2</mu1>
    <mu2>0.2</mu2>
    <material>Gazebo/DarkGrey</material>
    <kp value="1000000.0"/>
    <kd value="100.0"/>
  </gazebo>
  <transmission name="R_JShoulderRx_tran">
    <type>transmission_interface/SimpleTransmission</type>
    <joint name="R_JShoulderRx">
      <hardwareInterface>hardware_interface/EffortJointInterface</hardwareInterface>
    </joint>
    <actuator name="R_JShoulderRx_motor">
      <hardwareInterface>hardware_interface/EffortJointInterface</hardwareInterface>
      <mechanicalReduction>1</mechanicalReduction>
    </actuator>
  </transmission>
  <transmission name="R_JUpperArm_tran">
    <type>transmission_interface/SimpleTransmission</type>
    <joint name="R_JUpperArm">
      <hardwareInterface>hardware_interface/EffortJointInterface</hardwareInterface>
    </joint>
    <actuator name="R_JUpperArm_motor">
      <hardwareInterface>hardware_interface/EffortJointInterface</hardwareInterface>
      <mechanicalReduction>1</mechanicalReduction>
    </actuator>
  </transmission>
  <transmission name="R_JForeArm_tran">
    <type>transmission_interface/SimpleTransmission</type>
    <joint name="R_JForeArm">
      <hardwareInterface>hardware_interface/EffortJointInterface</hardwareInterface>
    </joint>
    <actuator name="R_JForeArm_motor">
      <hardwareInterface>hardware_interface/EffortJointInterface</hardwareInterface>
      <mechanicalReduction>1</mechanicalReduction>
    </actuator>
  </transmission>
</robot>
